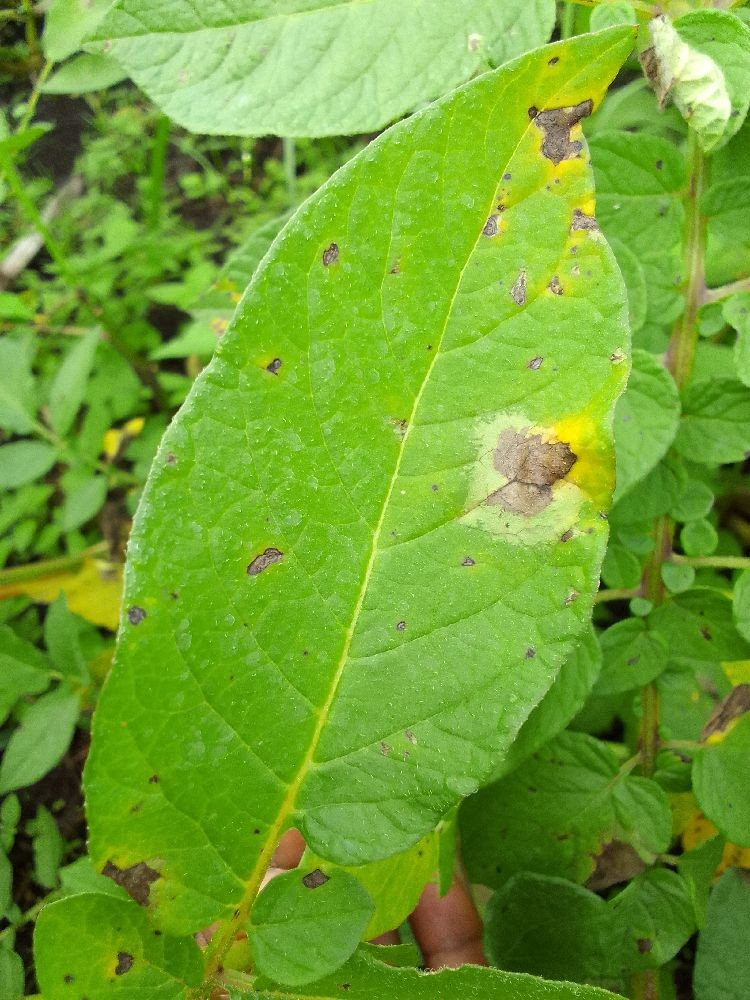late_blight: (0, 0, 164, 234), (147, 111, 300, 283), (356, 855, 504, 990), (476, 419, 594, 526)
